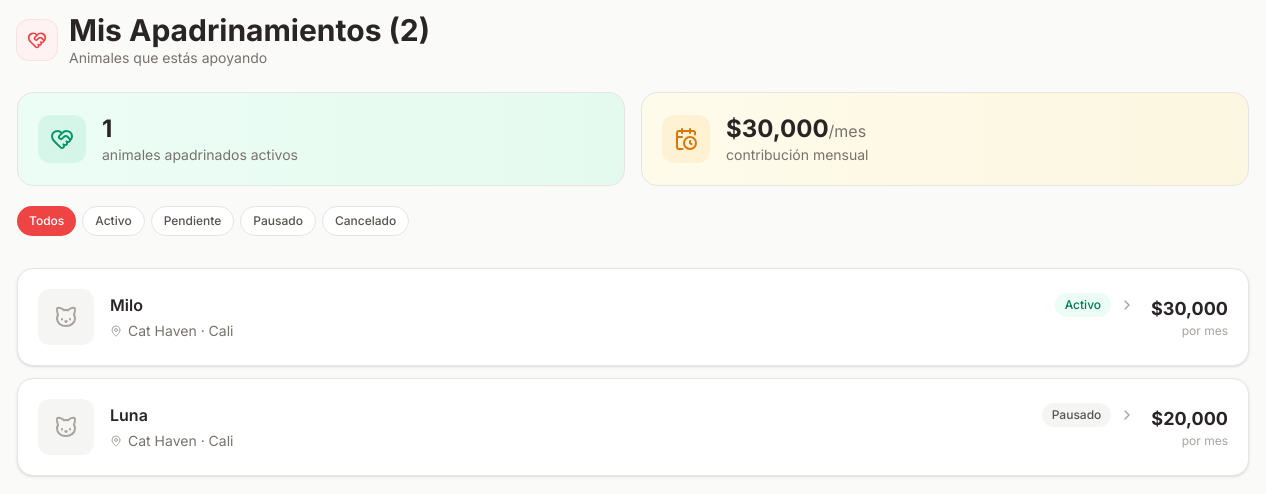
Test: MisApadrinamientosPage › filters sponsorships by status when filter button is clicked
Expected: the heading "Milo" is shown, [110,293,143,317]
Expected: the heading "Luna" is shown, [110,403,148,427]
Note: Click "Pausado" filter
Click the button "Pausado" at (278, 221), box [240,206,316,236]
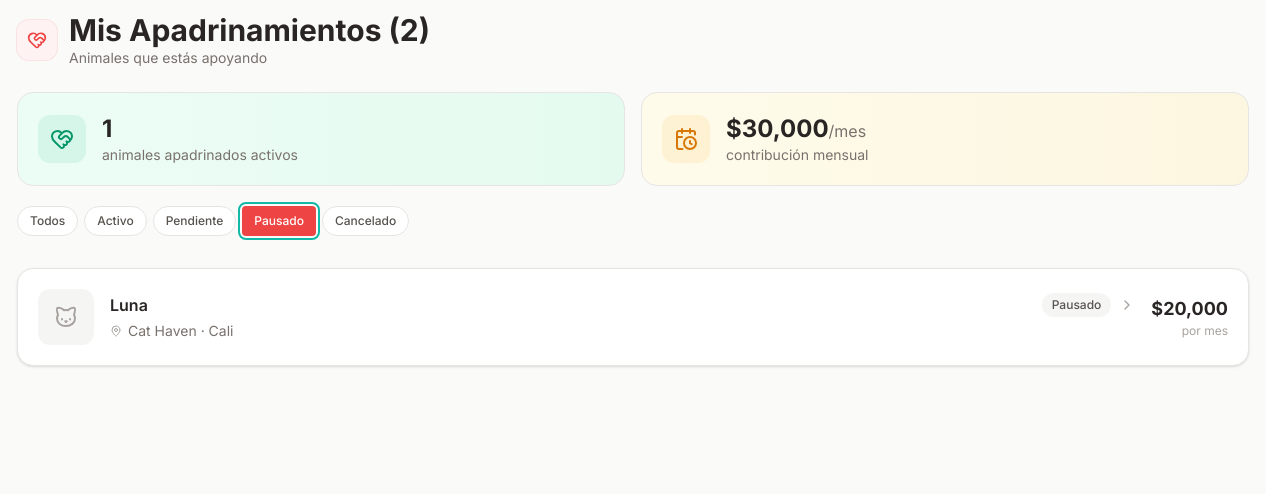
Expected: the heading "Luna" is shown, [110,293,148,317]
Now the link "Milo" is gone
